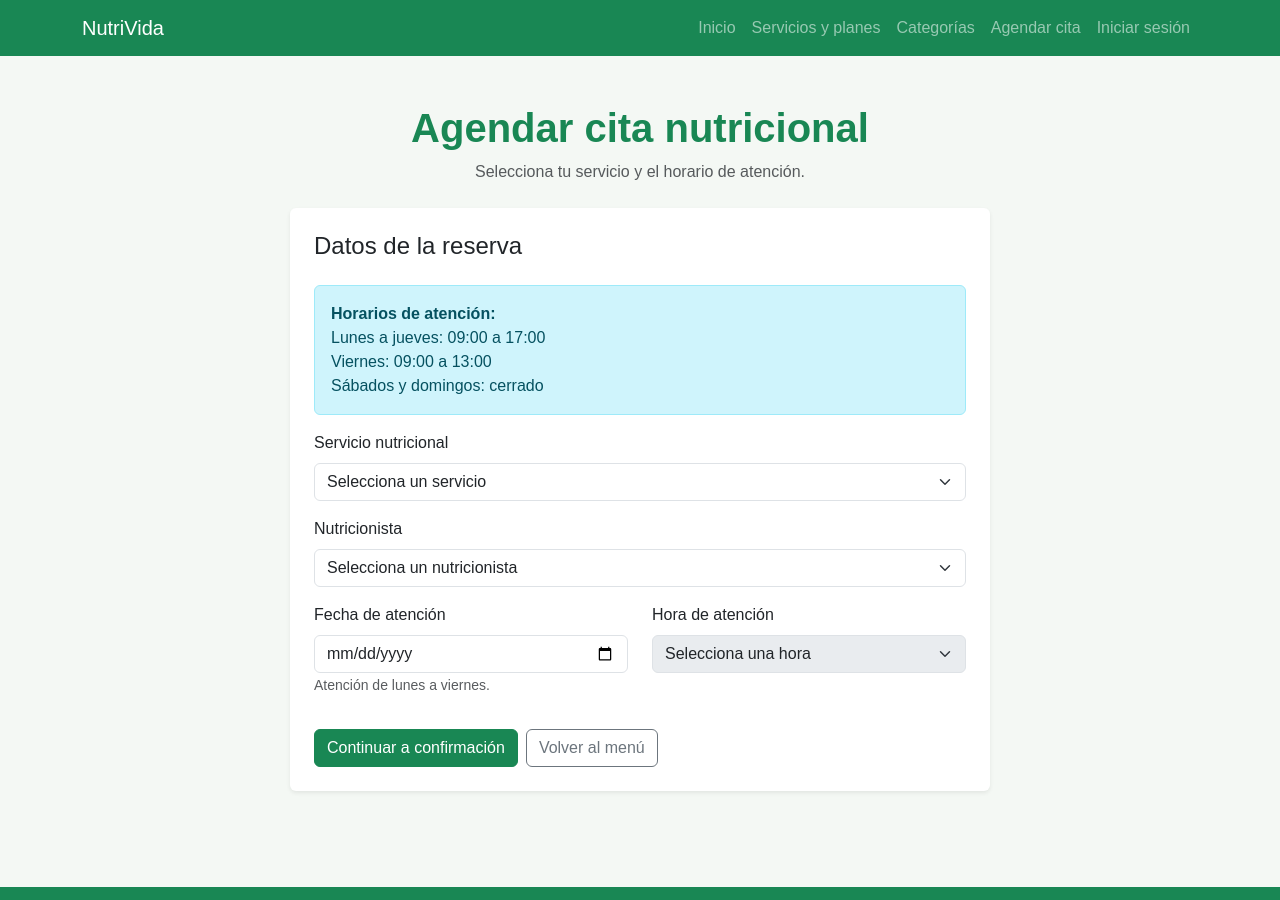
Test case: Agendamiento de citas de NutriVida › rechaza fechas anteriores al día actual
Type "2026-10-19" into the date field at (471, 654), box [314, 635, 628, 673]
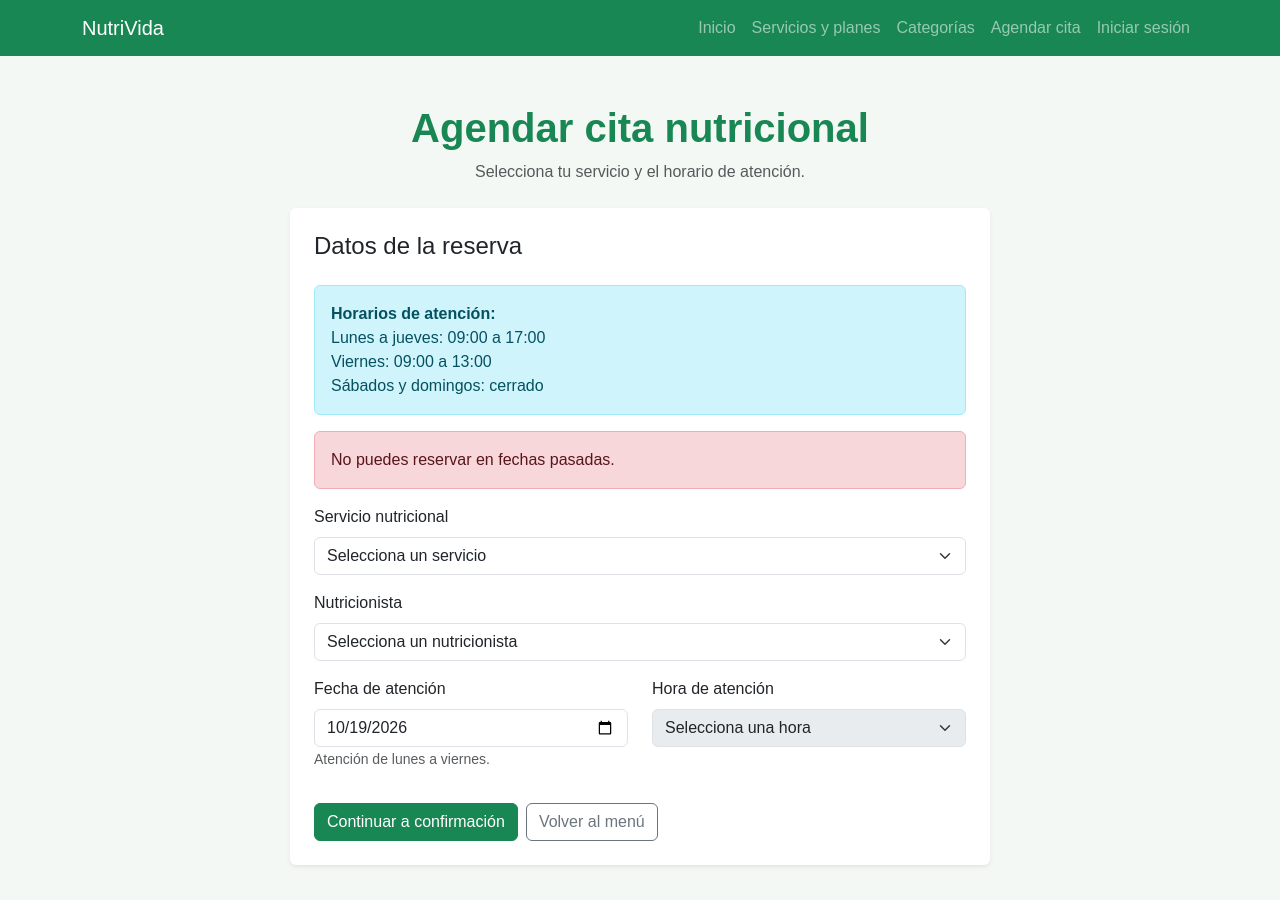
Expected: the dropdown below "Hora de atención" is disabled, [652, 709, 966, 747]
Expected: the text "No puedes reservar en fechas pasadas." is shown, [314, 431, 966, 489]
